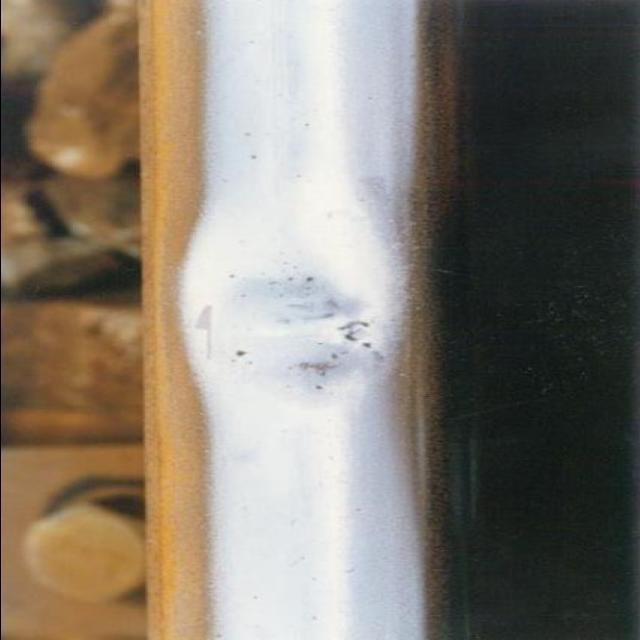squats_low: (173, 198, 425, 410)
